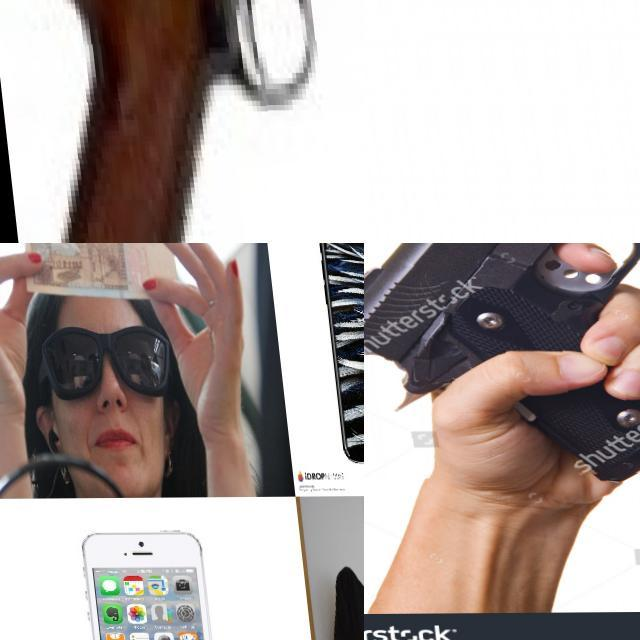gun-knife-thesis - v11 Yolov5 augmented: (0, 0, 364, 243), (364, 0, 640, 243), (364, 243, 640, 479)
